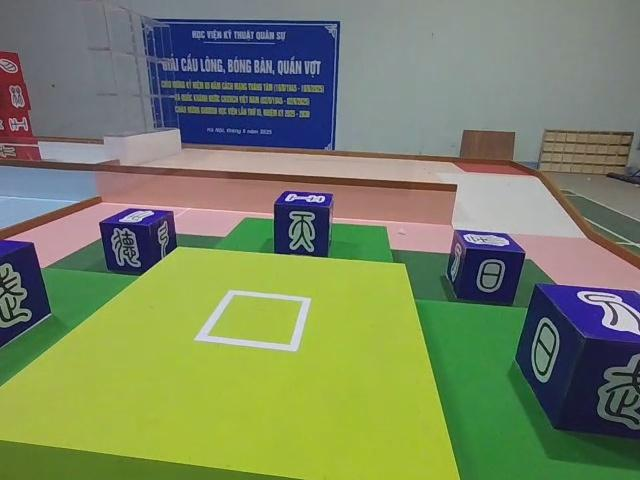R2 Fake Blue: (514, 283, 639, 449), (0, 239, 52, 365), (447, 231, 527, 308), (100, 206, 179, 275), (272, 191, 334, 259)
